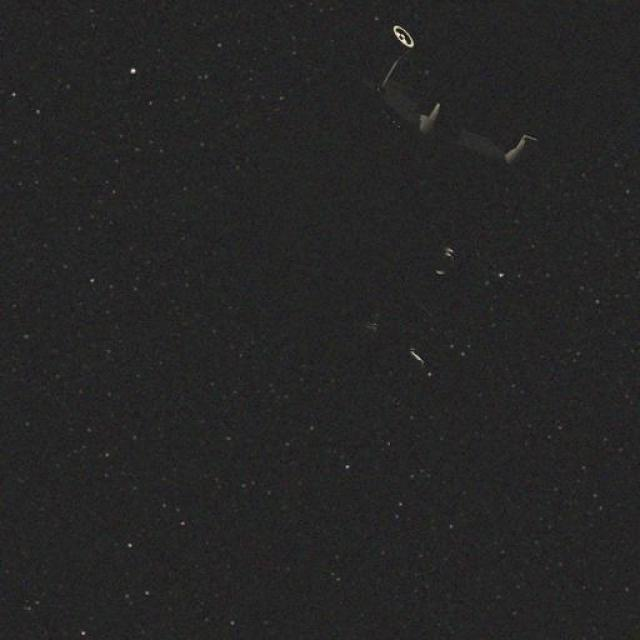proba_3_csc: (231, 0, 537, 408)
